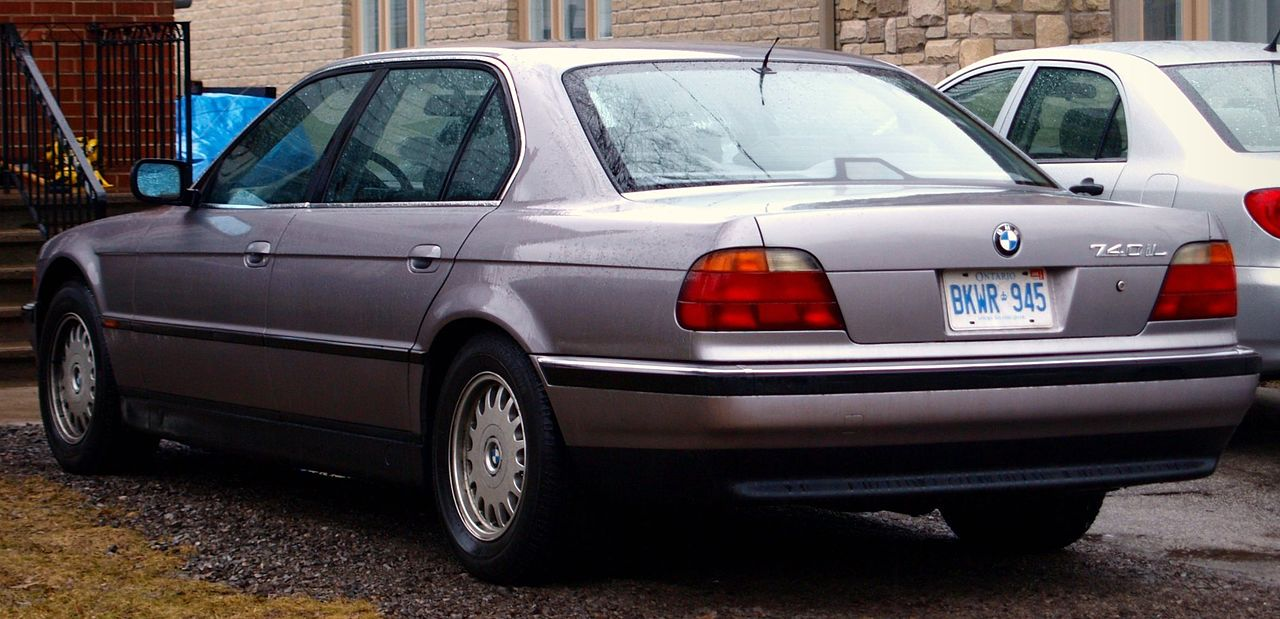plate: (941, 265, 1055, 333)
